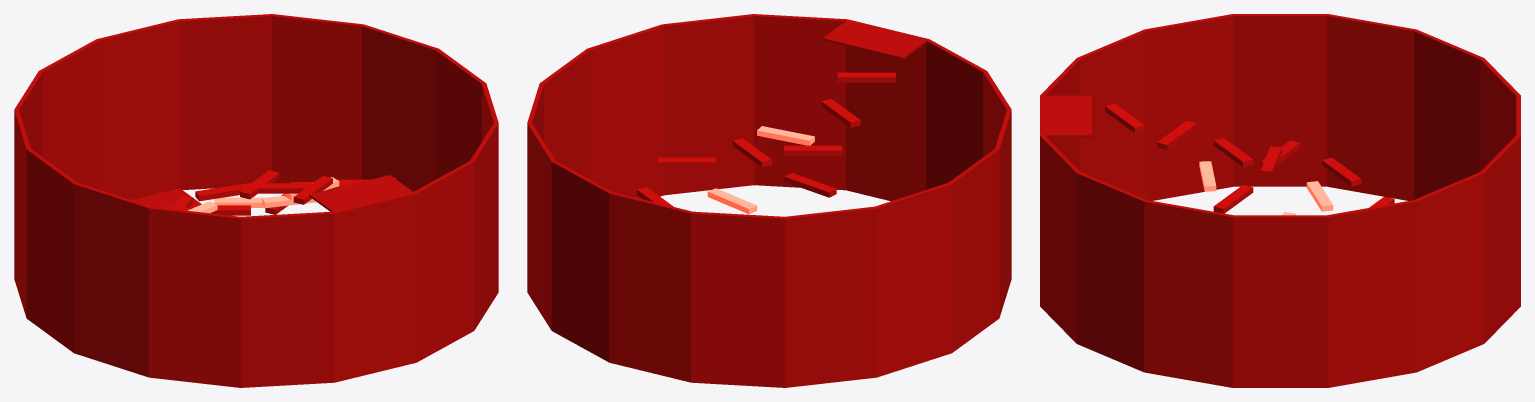
The model's file is Stage_1.fbx.
The picture shows the model from 3 angles, left to right: view 1: azimuth 30°, elevation 25°; view 2: azimuth 150°, elevation 25°; view 3: azimuth 270°, elevation 25°; orthographic projection.
Visible parts, largest first — view 1: stage_1, stage_1_deads; view 2: stage_1, stage_1_deads; view 3: stage_1, stage_1_deads.
Part boxes in pixels (x1,y1,x2,y2): stage_1: [14, 14, 498, 387]; stage_1_deads: [188, 177, 339, 213]; stage_1: [527, 14, 1011, 387]; stage_1_deads: [707, 126, 814, 213]; stage_1: [1040, 14, 1520, 387]; stage_1_deads: [1199, 161, 1333, 215].
Size of the model in its own units: 102 by 102 by 40.
